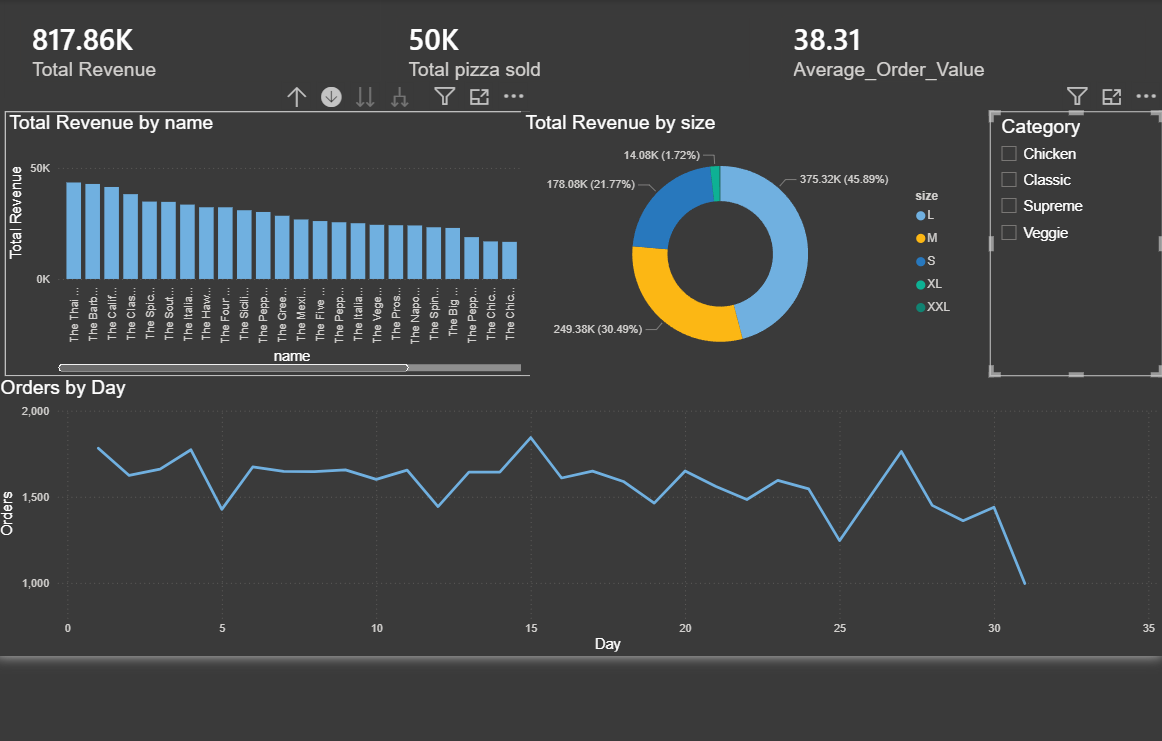

The page's visual inventory and layout, read from the dashboard file:
{"tool":"powerbi","page":{"name":"Page 1","canvas":[1280,720],"ordinal":0},"visuals":[{"type":"cardVisual","fields":{"Data":["_Measure.Total Revenue"]},"box":[9.6,0,413,107],"z":0},{"type":"cardVisual","fields":{"Data":["_Measure.Total pizza sold"]},"box":[422.6,0,422.6,107],"z":1},{"type":"cardVisual","fields":{"Data":["_Measure.Average_Order_Value"]},"box":[845.3,0,435,107],"z":2},{"type":"columnChart","fields":{"Y":["_Measure.Total Revenue"],"Category":["pizza_types.category","pizza_types.name"]},"box":[10,106.7,576.1,305.8],"z":3},{"type":"lineChart","title":"Orders by Day","fields":{"Y":["Count(order_details.order_details_id)"],"Category":["orders.date.Variation.Date Hierarchy.Day"]},"box":[0,413,1280.3,307.4],"z":4},{"type":"donutChart","fields":{"Category":["pizzas.size"],"Y":["_Measure.Total Revenue"]},"box":[576.1,122.3,486.5,305.8],"z":5},{"type":"slicer","fields":{"Values":["pizza_types.category"]},"box":[1091.1,122.3,189.2,290.2],"z":6}]}

Visuals, with their boxes on the page's 1280x720 design canvas (x1, y1, x2, y2). These are canvas units, not pixel positions in the 1162x741 screenshot, which may show the page scaled, cropped or inside an application window:
cardVisual - _Measure.Total Revenue: pyautogui.locateOnScreen(10, 0, 423, 107)
cardVisual - _Measure.Total pizza sold: pyautogui.locateOnScreen(423, 0, 845, 107)
cardVisual - _Measure.Average_Order_Value: pyautogui.locateOnScreen(845, 0, 1280, 107)
columnChart - _Measure.Total Revenue x pizza_types.category: pyautogui.locateOnScreen(10, 107, 586, 412)
"Orders by Day" lineChart: pyautogui.locateOnScreen(0, 413, 1280, 720)
donutChart - pizzas.size x _Measure.Total Revenue: pyautogui.locateOnScreen(576, 122, 1063, 428)
slicer - pizza_types.category: pyautogui.locateOnScreen(1091, 122, 1280, 412)
